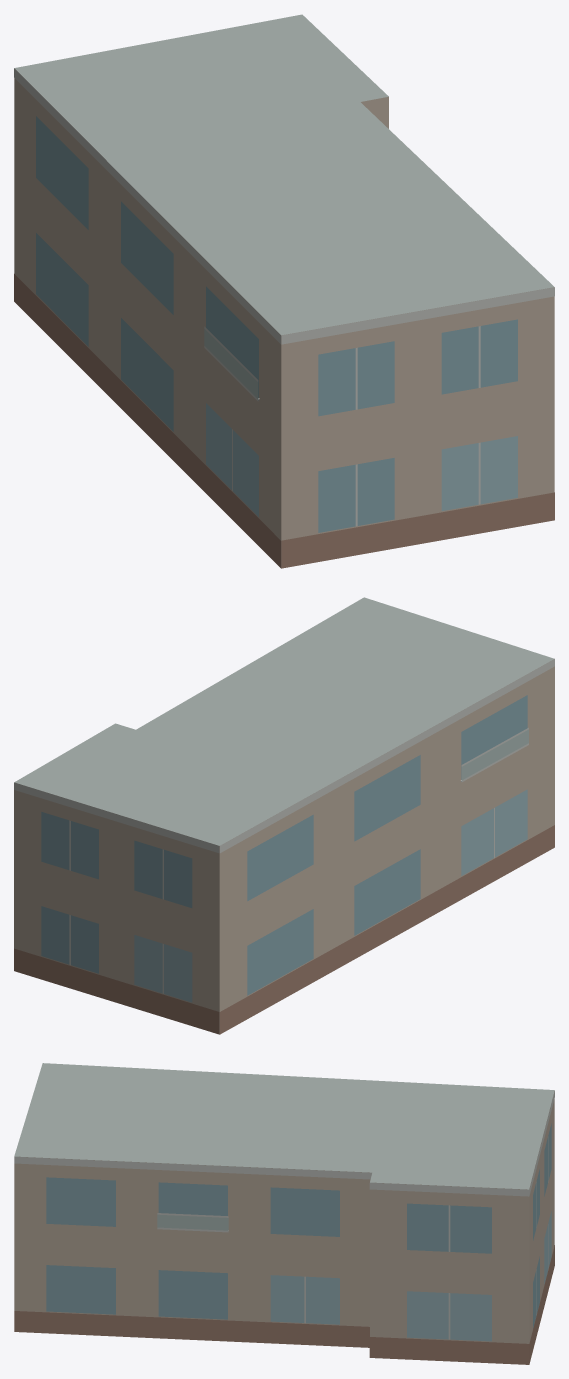
File: survey-upis-32820261.glb
The picture shows the model from 3 angles, top to bottom: view 1: azimuth 30°, elevation 25°; view 2: azimuth 150°, elevation 25°; view 3: azimuth 270°, elevation 25°; orthographic projection. The views are drawn at different scales.
Visible parts, largest first — view 1: survey-upis-32820261.tmp; view 2: survey-upis-32820261.tmp; view 3: survey-upis-32820261.tmp.
Part boxes in pixels (x1=…): survey-upis-32820261.tmp: x1=14, y1=14, x2=554, y2=568; survey-upis-32820261.tmp: x1=14, y1=597, x2=554, y2=1034; survey-upis-32820261.tmp: x1=14, y1=1063, x2=554, y2=1364.
Size of the model in its own units: 9.45 by 6.1 by 17.06.
